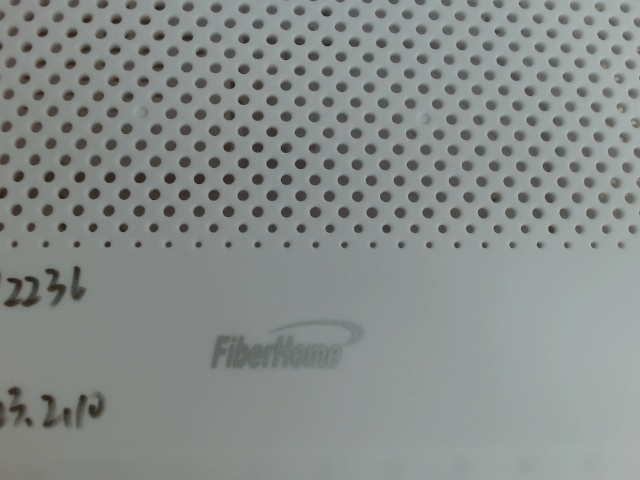AI_FiberHome: (203, 308, 389, 379)
